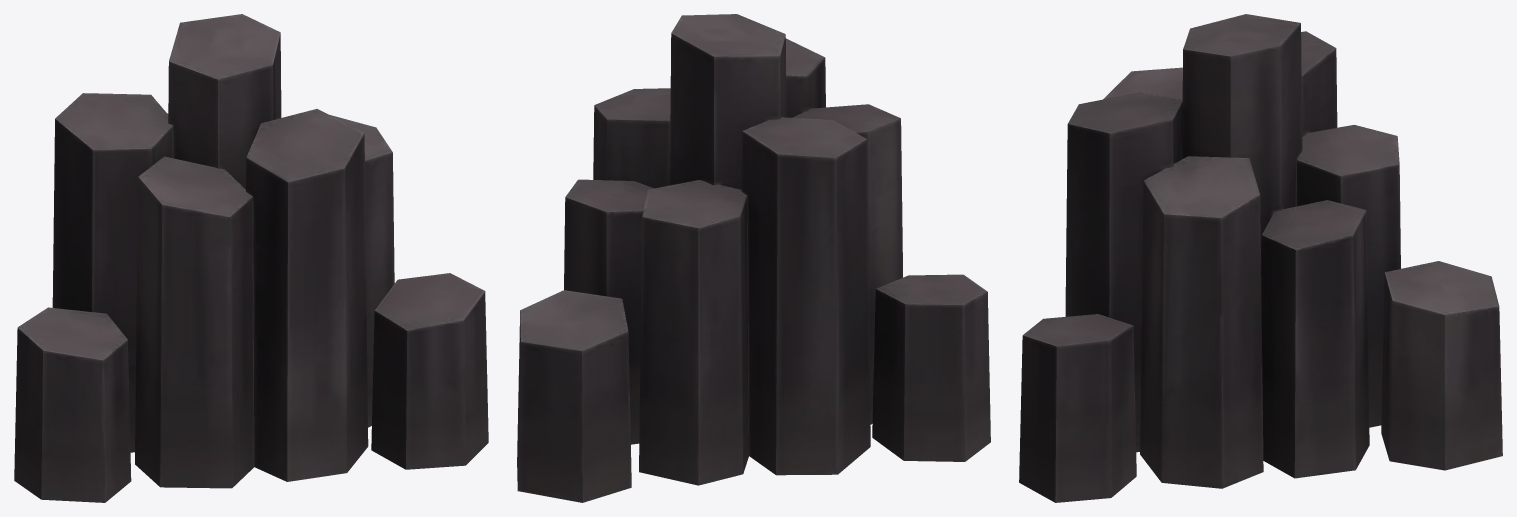
File: rock_basalt_a.glb
3 renders of one model, left to right at view 1: azimuth 30°, elevation 25°; view 2: azimuth 150°, elevation 25°; view 3: azimuth 270°, elevation 25°, orthographic. The views are drawn at different scales.
Visible parts, largest first — view 1: Static_Mesh; view 2: Static_Mesh; view 3: Static_Mesh.
Part boxes in pixels (<box>): Static_Mesh: <box>14,14,488,502</box>; Static_Mesh: <box>517,14,990,502</box>; Static_Mesh: <box>1019,14,1502,502</box>.
Bounding box in the file's own units: 2.71 × 2.51 × 2.82.
Materials: 1 (1 with a texture image).
